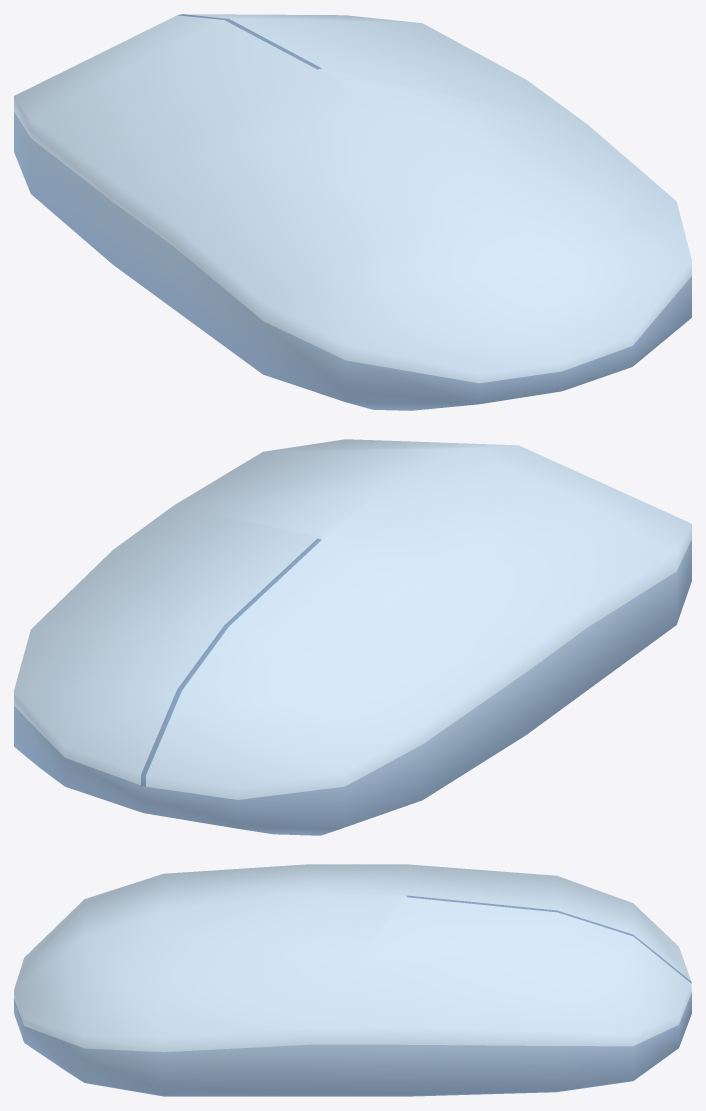
The model's file is mouse.glb.
3 renders of one model, top to bottom at view 1: azimuth 30°, elevation 25°; view 2: azimuth 150°, elevation 25°; view 3: azimuth 270°, elevation 25°, orthographic. The views are drawn at different scales.
Visible parts, largest first — view 1: mouse; view 2: mouse; view 3: mouse.
Part boxes in pixels (x1,y1,x2,y2): mouse: [14, 14, 691, 410]; mouse: [14, 439, 691, 835]; mouse: [14, 864, 691, 1096].
Bounding box in the file's own units: 6.84 × 2.56 × 12.
Materials: 1 (1 with a texture image).
